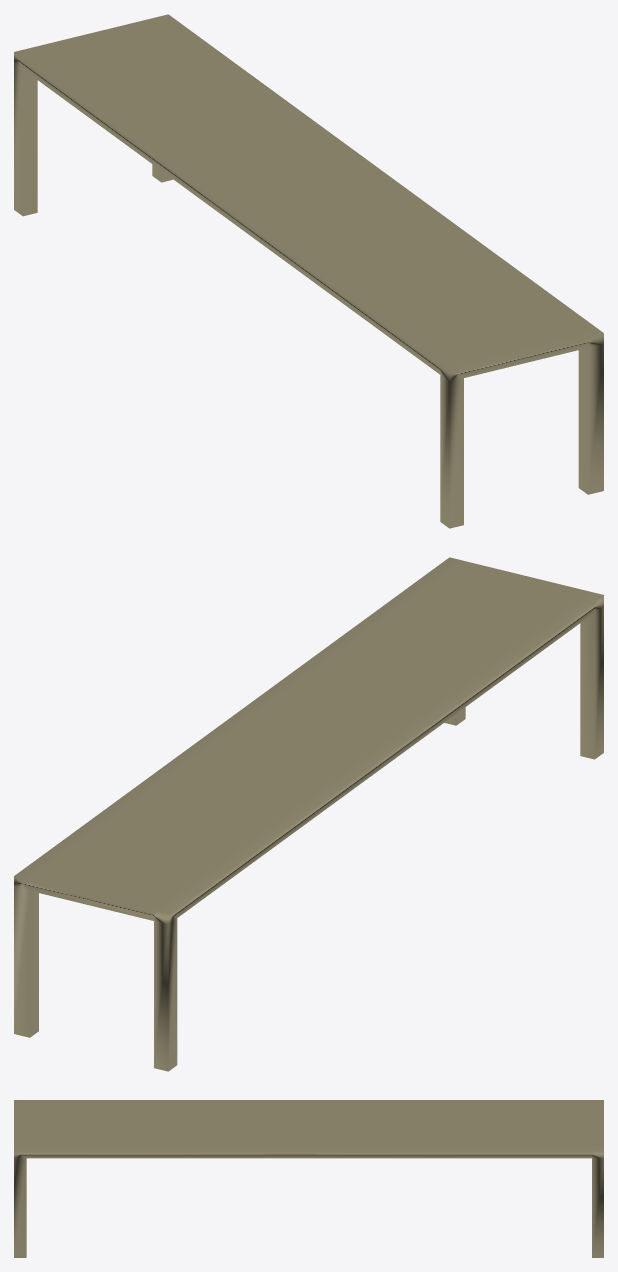
Rendered from KarkkipîytÑ_asteriski.fbx.
3 renders of one model, top to bottom at view 1: azimuth 30°, elevation 25°; view 2: azimuth 150°, elevation 25°; view 3: azimuth 270°, elevation 25°, orthographic. The views are drawn at different scales.
Visible parts, largest first — view 1: Cube; view 2: Cube; view 3: Cube.
Part boxes in pixels (x1,y1,x2,y2): Cube: (14, 14, 603, 528); Cube: (14, 557, 603, 1071); Cube: (14, 1100, 603, 1257).
Bounding box in the file's own units: 2 × 1.95 × 9.77.
